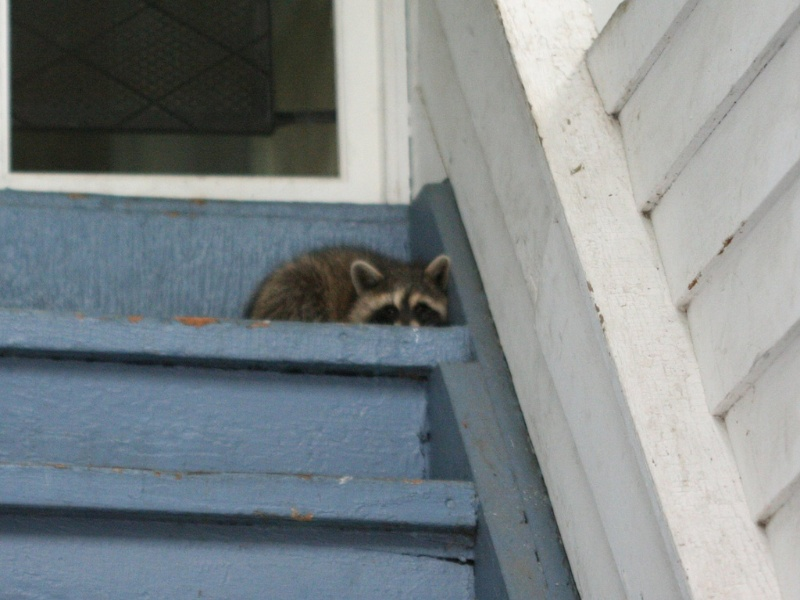raccoon: (236, 242, 456, 327)
